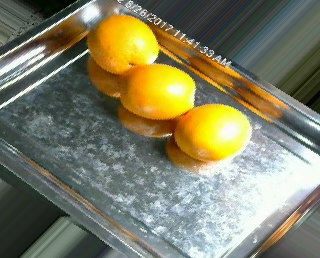Orange: (85, 13, 158, 75), (119, 62, 196, 119), (173, 103, 250, 160)
